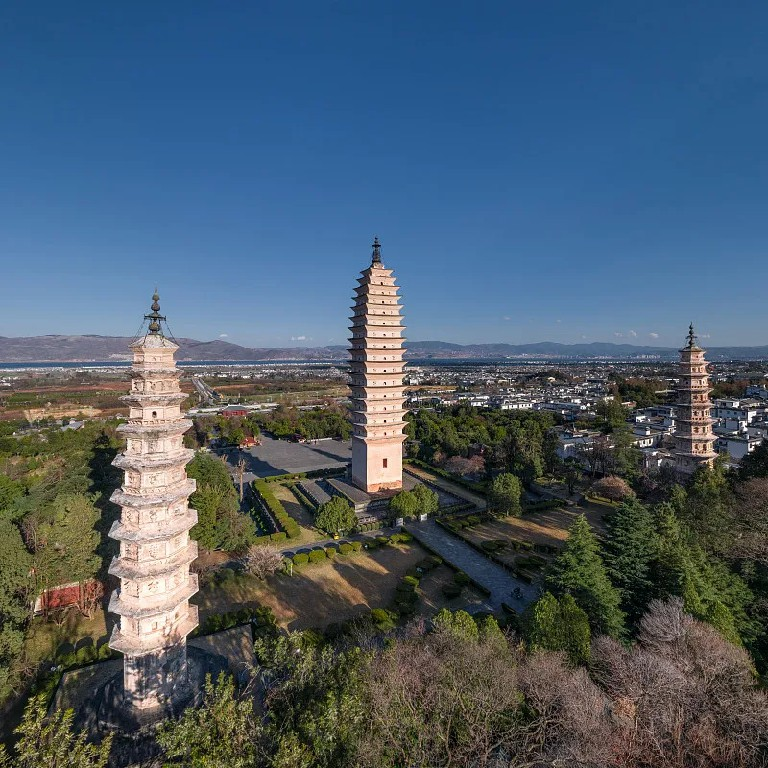ThreePagoda: (347, 234, 409, 494)
